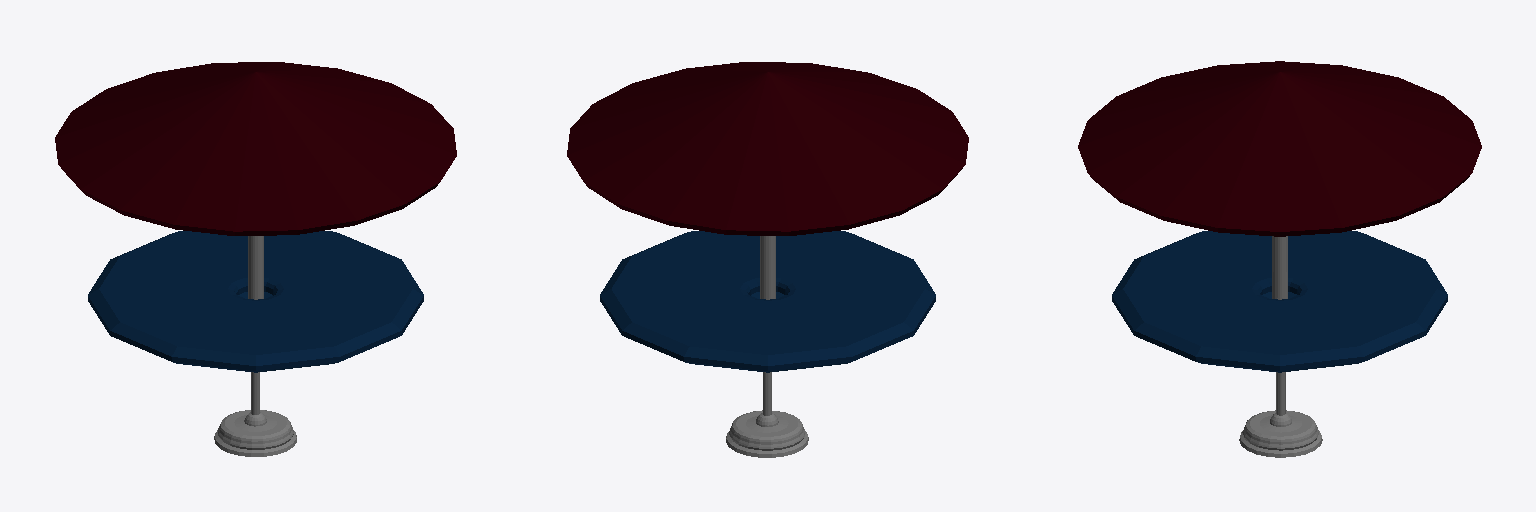
The model's file is Table.obj.
The picture shows the model from 3 angles: view 1: azimuth 30°, elevation 25°; view 2: azimuth 150°, elevation 25°; view 3: azimuth 270°, elevation 25°; orthographic projection.
Parts seen in each view (by area): view 1: Umbrella_Top Table_Umbrella_Top Table, Table pCylinder1, Table Table_Base1; view 2: Umbrella_Top Table_Umbrella_Top Table, Table pCylinder1, Table Table_Base1; view 3: Umbrella_Top Table_Umbrella_Top Table, Table pCylinder1, Table Table_Base1.
Part boxes in pixels (bbox=[...]): Umbrella_Top Table_Umbrella_Top Table: bbox=[55, 62, 456, 299]; Table pCylinder1: bbox=[88, 231, 423, 372]; Table Table_Base1: bbox=[214, 372, 296, 456]; Umbrella_Top Table_Umbrella_Top Table: bbox=[567, 62, 968, 299]; Table pCylinder1: bbox=[600, 231, 935, 372]; Table Table_Base1: bbox=[726, 372, 808, 457]; Umbrella_Top Table_Umbrella_Top Table: bbox=[1078, 61, 1481, 299]; Table pCylinder1: bbox=[1112, 231, 1447, 372]; Table Table_Base1: bbox=[1239, 372, 1322, 457].
Bounding box in the file's own units: 15.3 × 15.36 × 15.3.